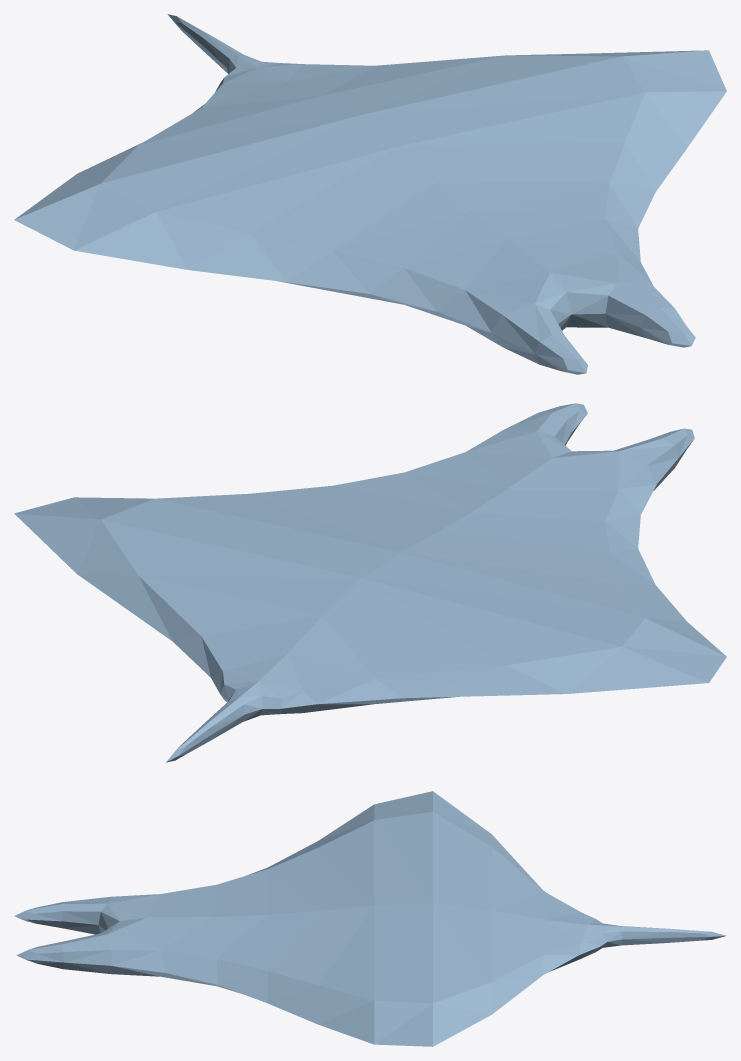
3 renders of one model, top to bottom at view 1: azimuth 30°, elevation 25°; view 2: azimuth 150°, elevation 25°; view 3: azimuth 270°, elevation 25°, orthographic. The views are drawn at different scales.
Visible parts, largest first — view 1: ei; view 2: ei; view 3: ei.
Part boxes in pixels (x1,y1,x2,y2): ei: [14, 14, 726, 374]; ei: [14, 403, 726, 762]; ei: [14, 791, 726, 1046].
Bounding box in the file's own units: 6.6 × 7.77 × 0.629.
